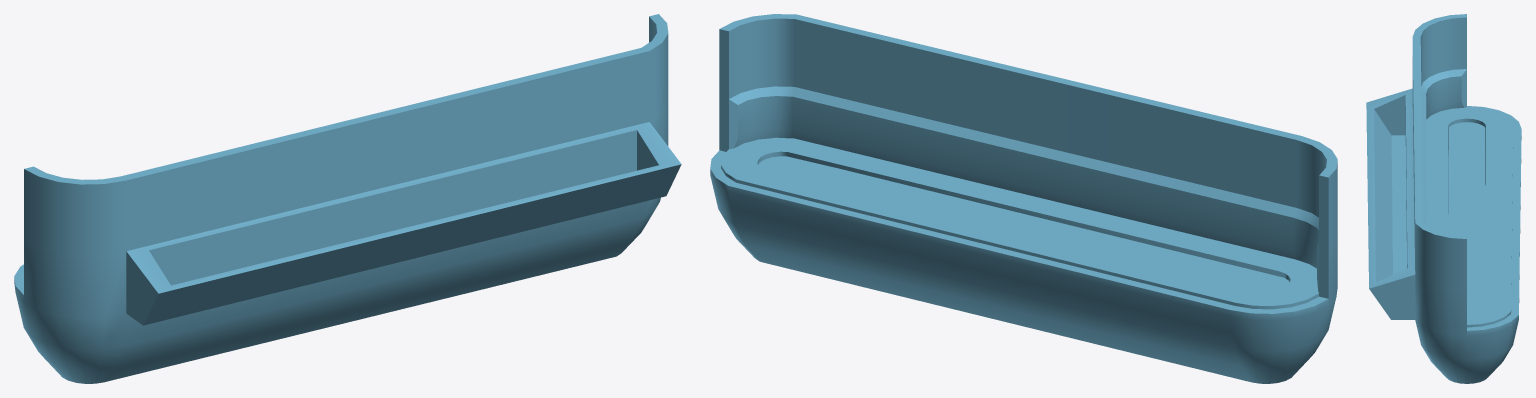
Rendered from Pew.fbx.
3 renders of one model, left to right at view 1: azimuth 30°, elevation 25°; view 2: azimuth 150°, elevation 25°; view 3: azimuth 270°, elevation 25°, orthographic. The views are drawn at different scales.
Visible parts, largest first — view 1: chair2; view 2: chair2; view 3: chair2.
Part boxes in pixels (left/top/right/bottom): chair2: left=14, top=14, right=681, bottom=383; chair2: left=710, top=14, right=1337, bottom=383; chair2: left=1366, top=14, right=1521, bottom=383.
Size of the model in its own units: 26.75 by 8.78 by 7.79.
